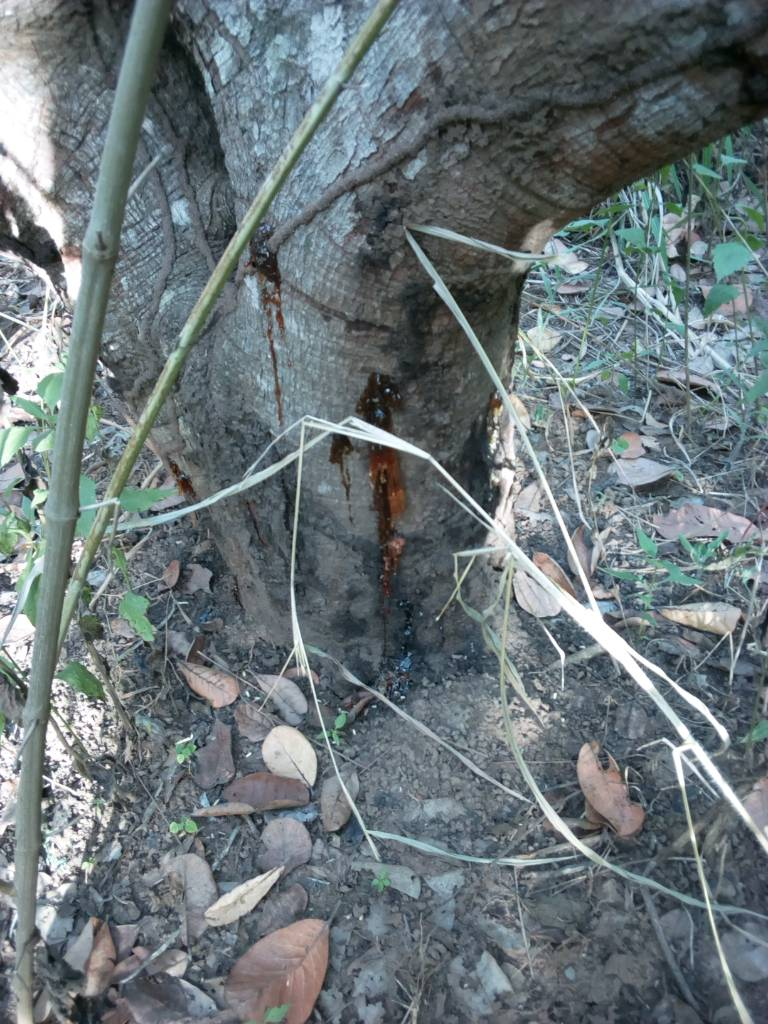Gommose: (341, 369, 416, 594)
